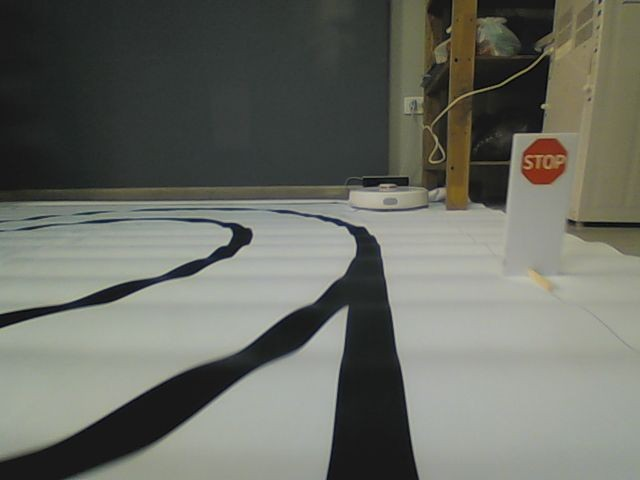Stop: (518, 135, 567, 183)
